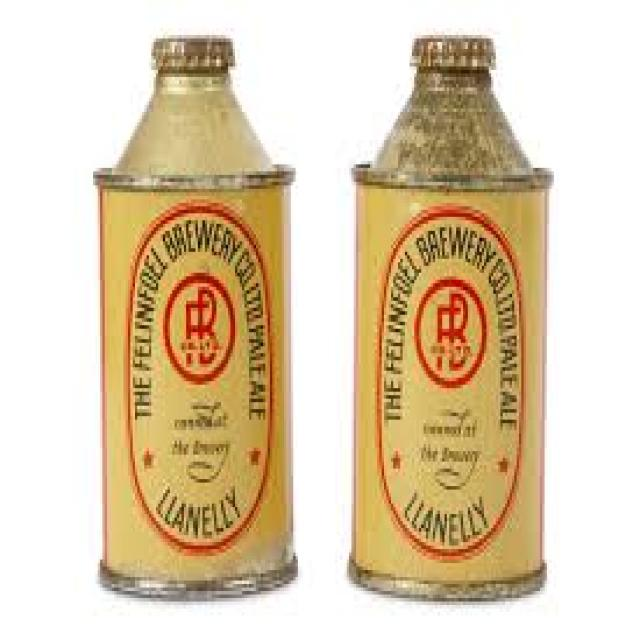Cans: (86, 147, 319, 615), (344, 161, 568, 601)
